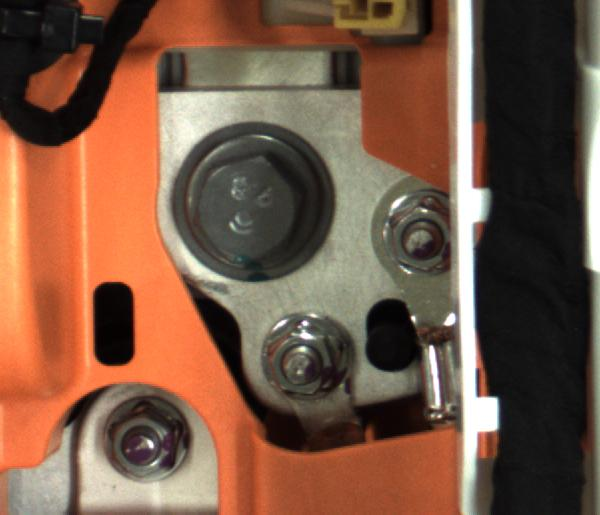nut_b: (158, 117, 333, 282)
screw_s: (102, 396, 196, 479), (382, 202, 470, 276), (264, 314, 338, 395)
